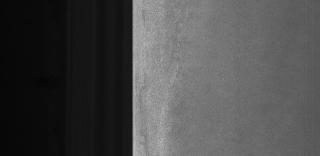silk spot: (152, 16, 198, 80)
